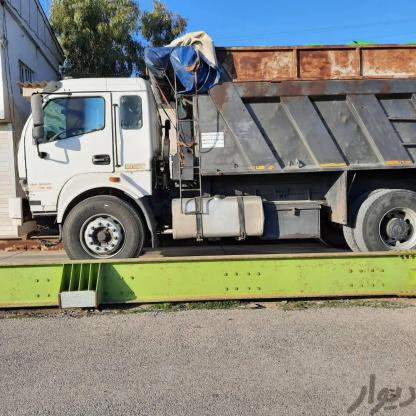Truck: (16, 58, 416, 254)
